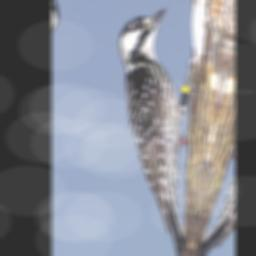Woodpecker: (81, 0, 227, 256)
